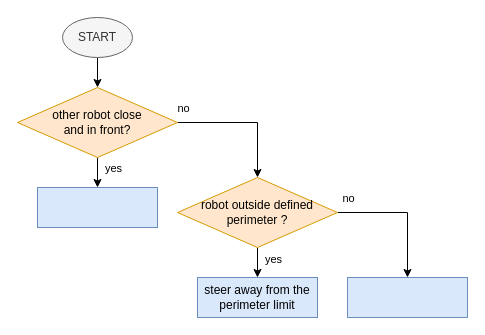
Image size: 485x335. Some labels were removed from this diagram. The centre of each missing label's shape, as x and y in pixels:
"randomly steers" belongs at pixel 407 297.
"steer away from the current direction" belongs at pixel 97 207.
